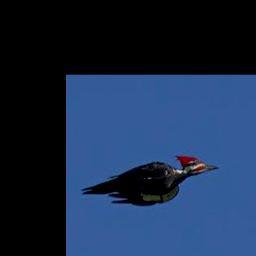Woodpecker: (81, 155, 219, 205)
